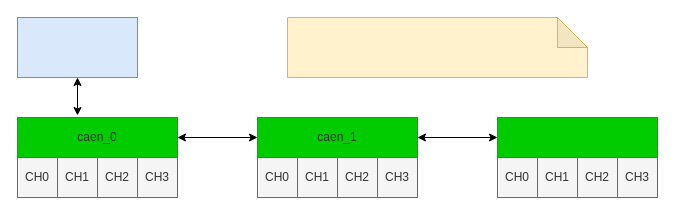
Some shapes in this 675 by 215 pixel diagram are drawn without their labels. Each missing label, with the centre of its shape:
"caen_2" goes at pixel 577 137.
"hv * mon bdname" goes at pixel 437 47.
"PC" goes at pixel 77 47.
